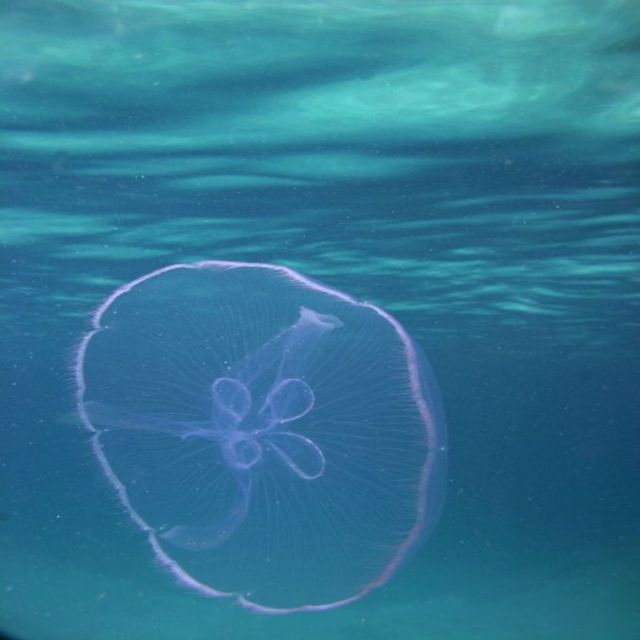Jellyfish: (55, 258, 449, 615)
